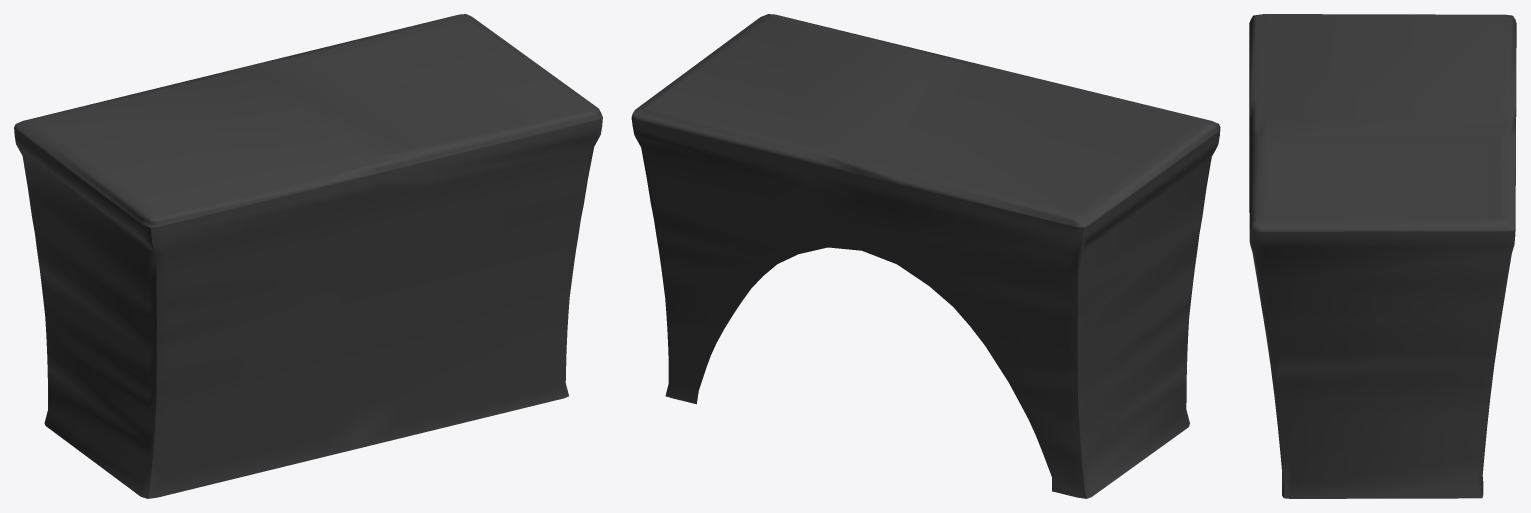
Rendered from multi-4ft-3-24.glb.
3 views of the same model, side by side, from view 1: azimuth 30°, elevation 25°; view 2: azimuth 150°, elevation 25°; view 3: azimuth 270°, elevation 25° (orthographic). The views are drawn at different scales.
Visible parts, largest first — view 1: geometry_0; view 2: geometry_0; view 3: geometry_0.
Boxes of the visible parts, bbox=[...] form: geometry_0: bbox=[14, 14, 602, 498]; geometry_0: bbox=[631, 14, 1220, 498]; geometry_0: bbox=[1249, 14, 1516, 498].
Bounding box in the file's own units: 1.27 × 0.7812 × 0.6679.
Materials: 1 (1 with a texture image).
